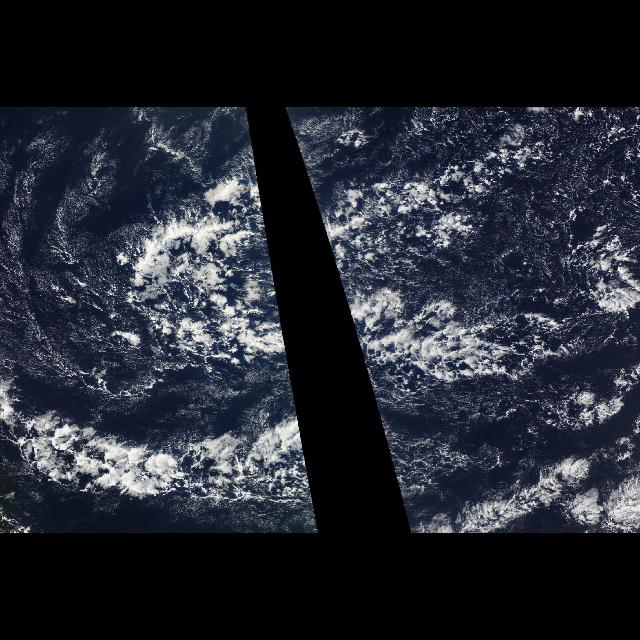Fish: (302, 168, 636, 534), (5, 168, 319, 534)
Gravel: (401, 114, 639, 286)
Sugar: (376, 140, 604, 326)
